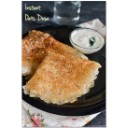dosa: (24, 28, 99, 98)
